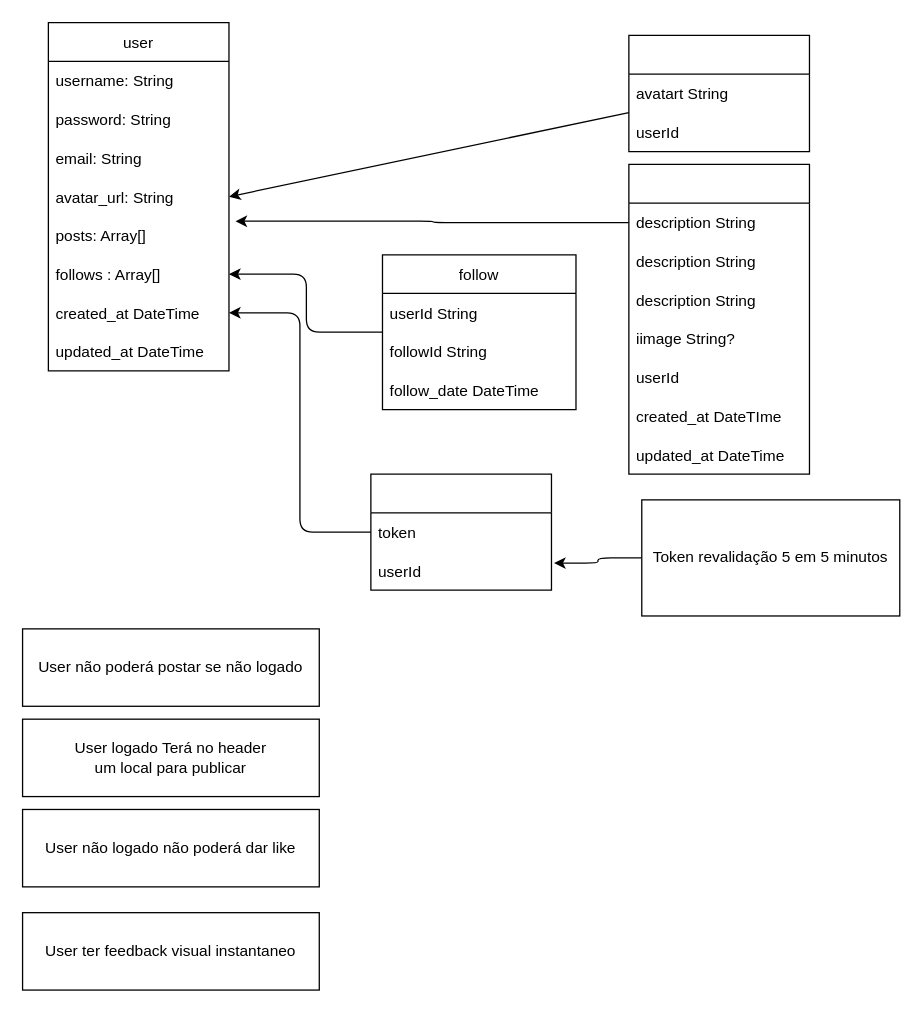
Image size: 922x1013. Some labels were removed from this diagram. Here are the shapes that lost their labels. From the top down, the box of each, then its label:
(628, 34, 809, 152): image
(628, 163, 809, 474): post
(370, 473, 551, 590): refresh
